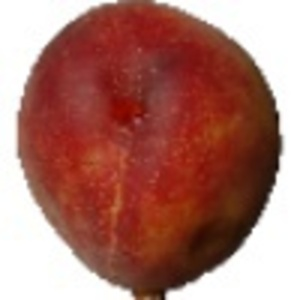pêssego: (14, 1, 284, 300)
